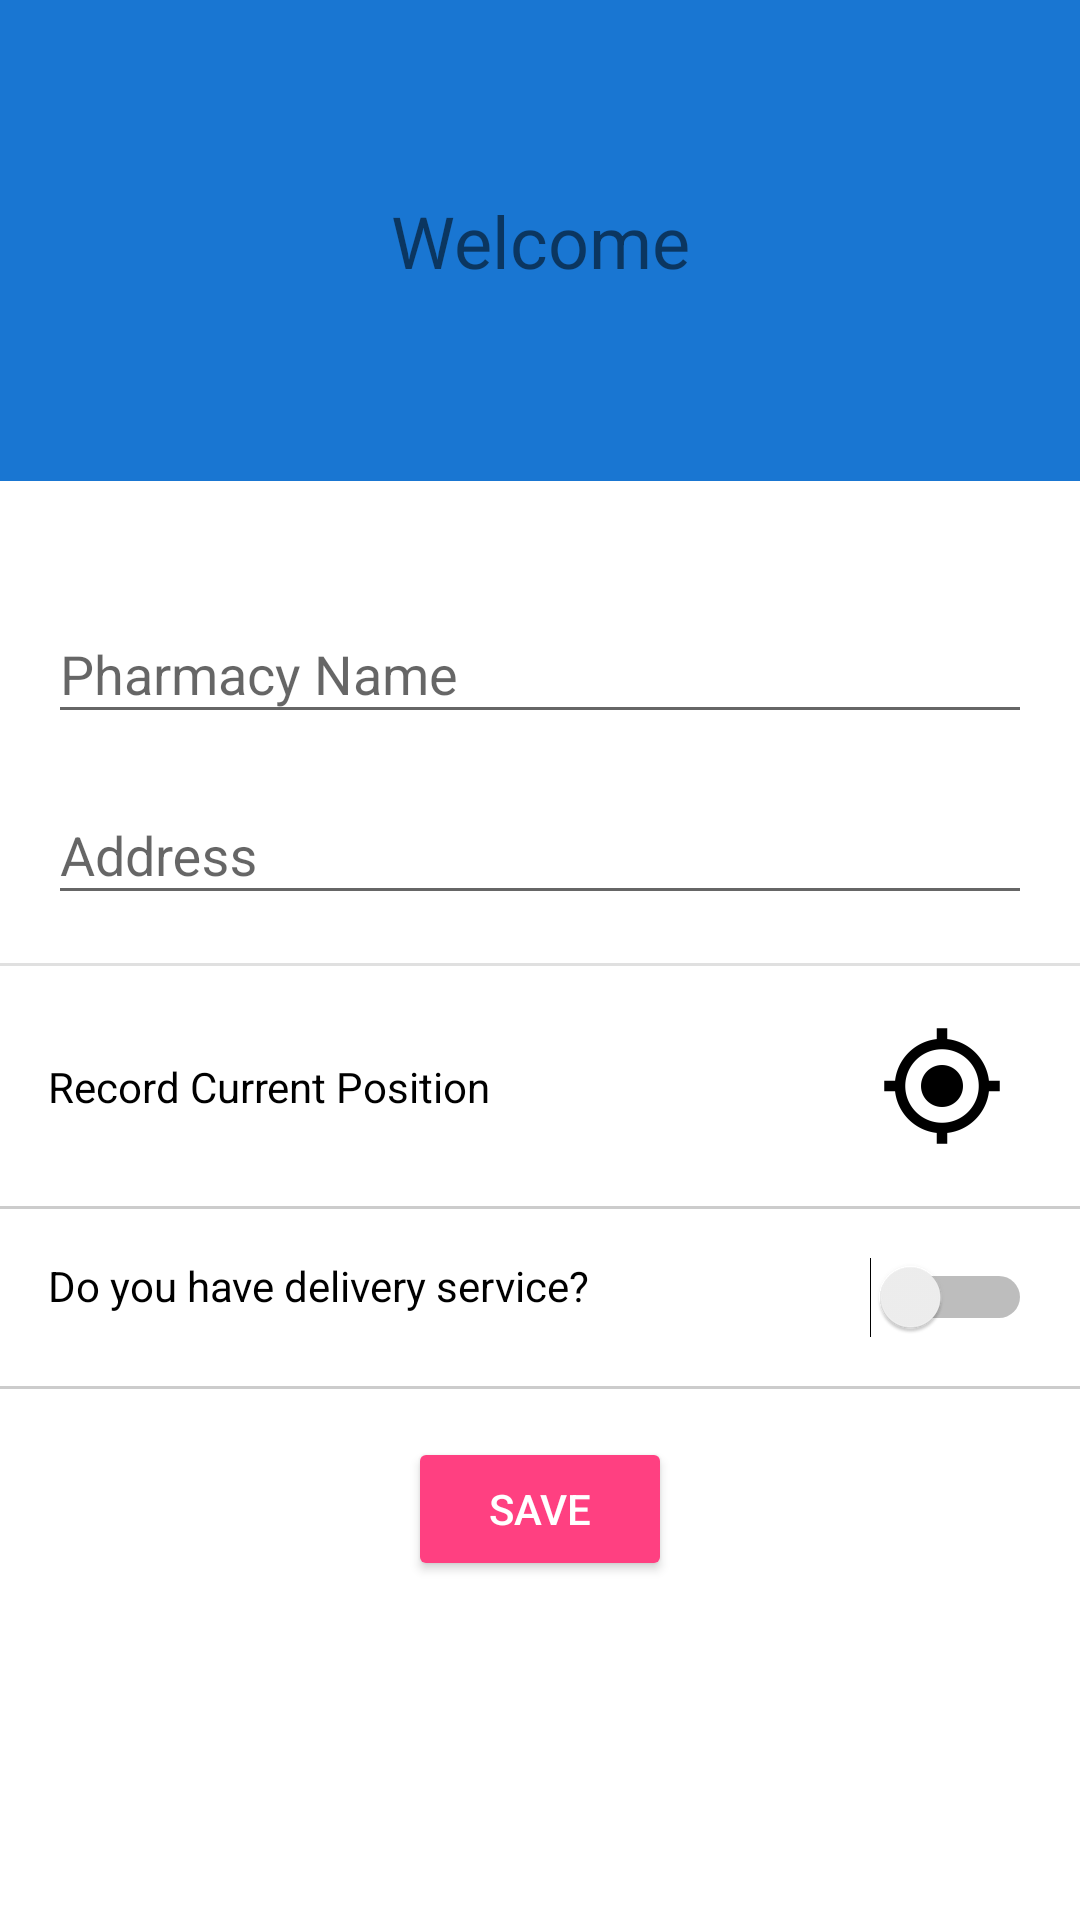

Named icons in this screenshot (1080x1920) and their bounding boxes, region(x1, y1, x2, y2):
position: region(884, 1028, 1000, 1144)
